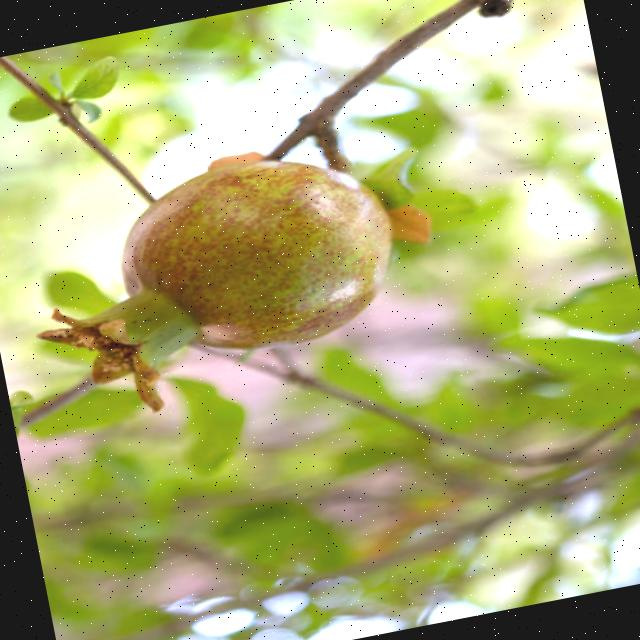Unripe: (14, 138, 417, 434)
